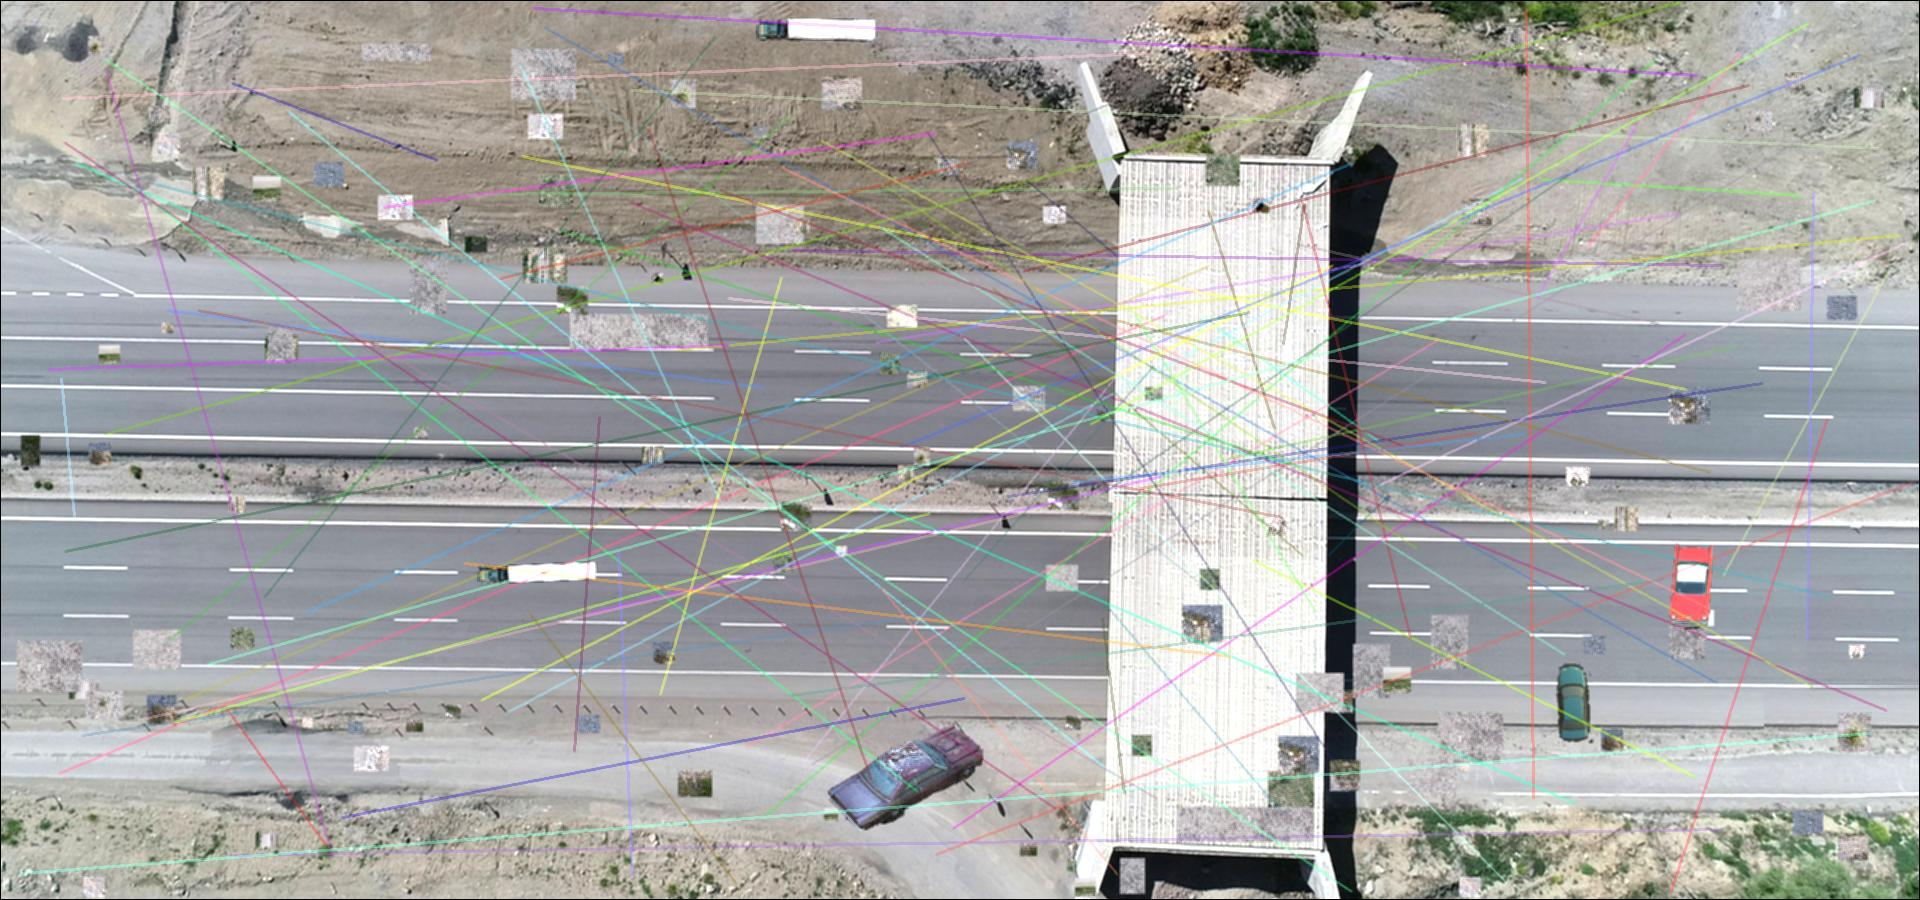arac: (824, 722, 983, 830), (1668, 542, 1712, 629), (756, 16, 879, 47), (1555, 662, 1593, 743), (476, 561, 599, 585)
